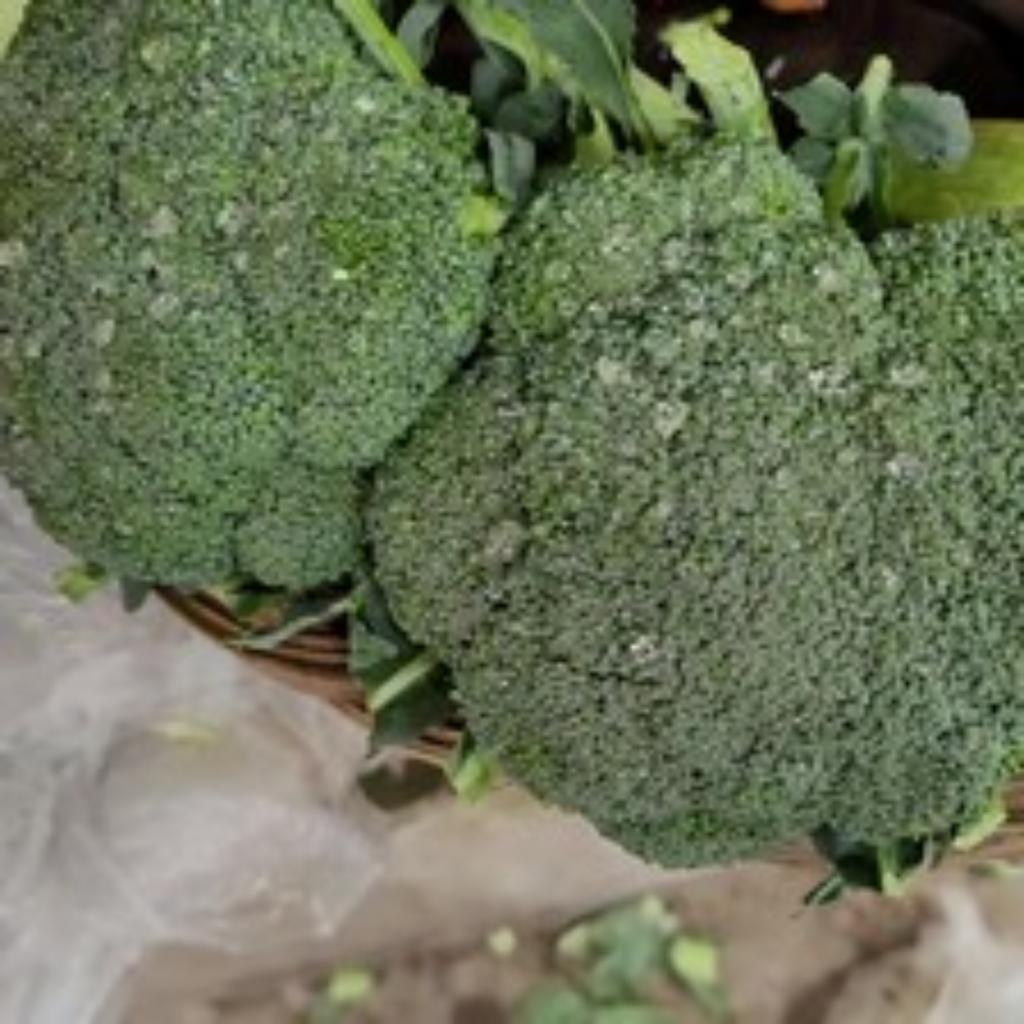Broccoli: (366, 140, 1024, 863), (366, 140, 1024, 861), (0, 0, 494, 587), (0, 0, 492, 585)
